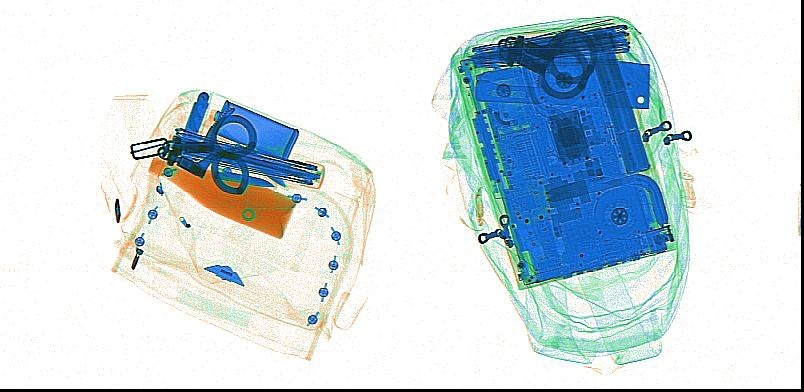handcuffs: (158, 116, 257, 193), (496, 26, 597, 98)
knife: (472, 53, 651, 110), (205, 110, 286, 188), (177, 89, 211, 148), (214, 168, 276, 189)
zippooil: (210, 100, 299, 162)
